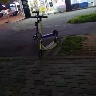beam: (29, 9, 60, 44)
gcooter: (33, 15, 62, 59)
